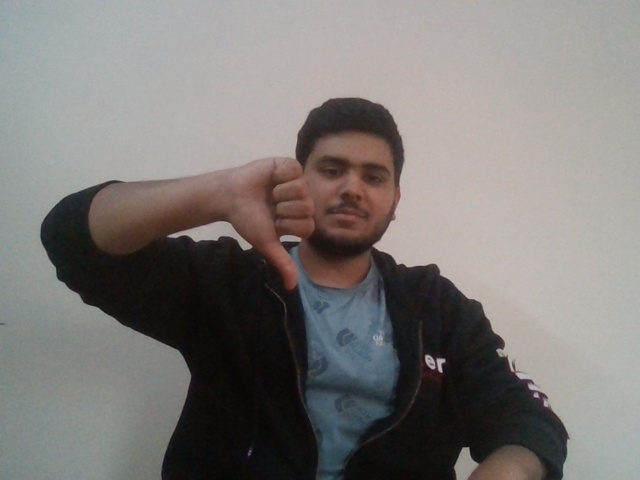No: (210, 148, 323, 298)
